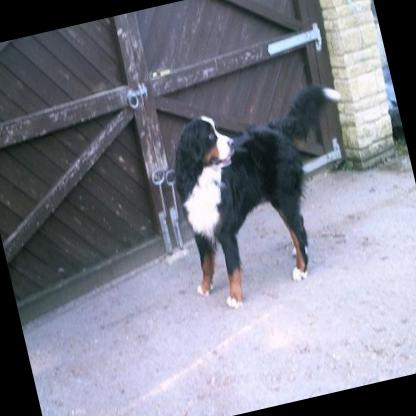Bernese_mountain_dog: (155, 78, 385, 317)
